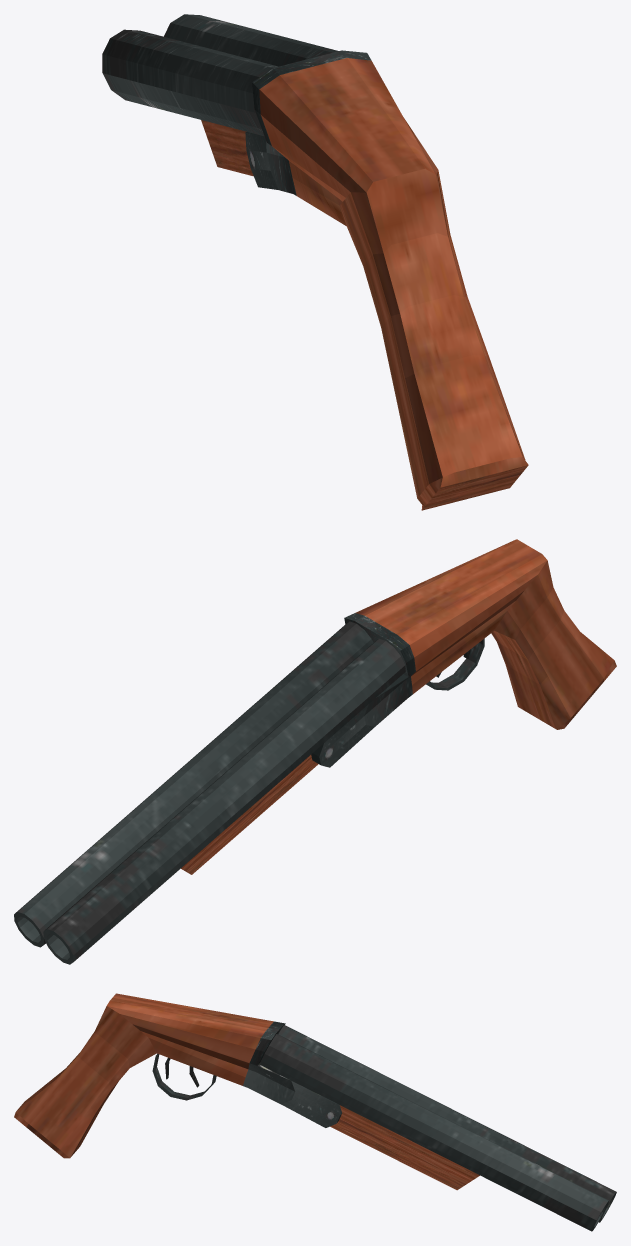
File: Shotgun.fbx
3 views of the same model, one above another, from view 1: azimuth 30°, elevation 25°; view 2: azimuth 150°, elevation 25°; view 3: azimuth 270°, elevation 25° (orthographic). The views are drawn at different scales.
Parts seen in each view (by area): view 1: Shotgun, ShotgunPipa; view 2: ShotgunPipa, Shotgun; view 3: ShotgunPipa, Shotgun.
Part boxes in pixels (left/top/right/bottom): Shotgun: left=245, top=50, right=528, bottom=510; ShotgunPipa: left=102, top=14, right=338, bottom=176; ShotgunPipa: left=14, top=621, right=405, bottom=964; Shotgun: left=311, top=539, right=616, bottom=767; ShotgunPipa: left=259, top=1025, right=616, bottom=1231; Shotgun: left=14, top=993, right=341, bottom=1158.
Bounding box in the file's own units: 0.677 × 0.6241 × 1.99.
